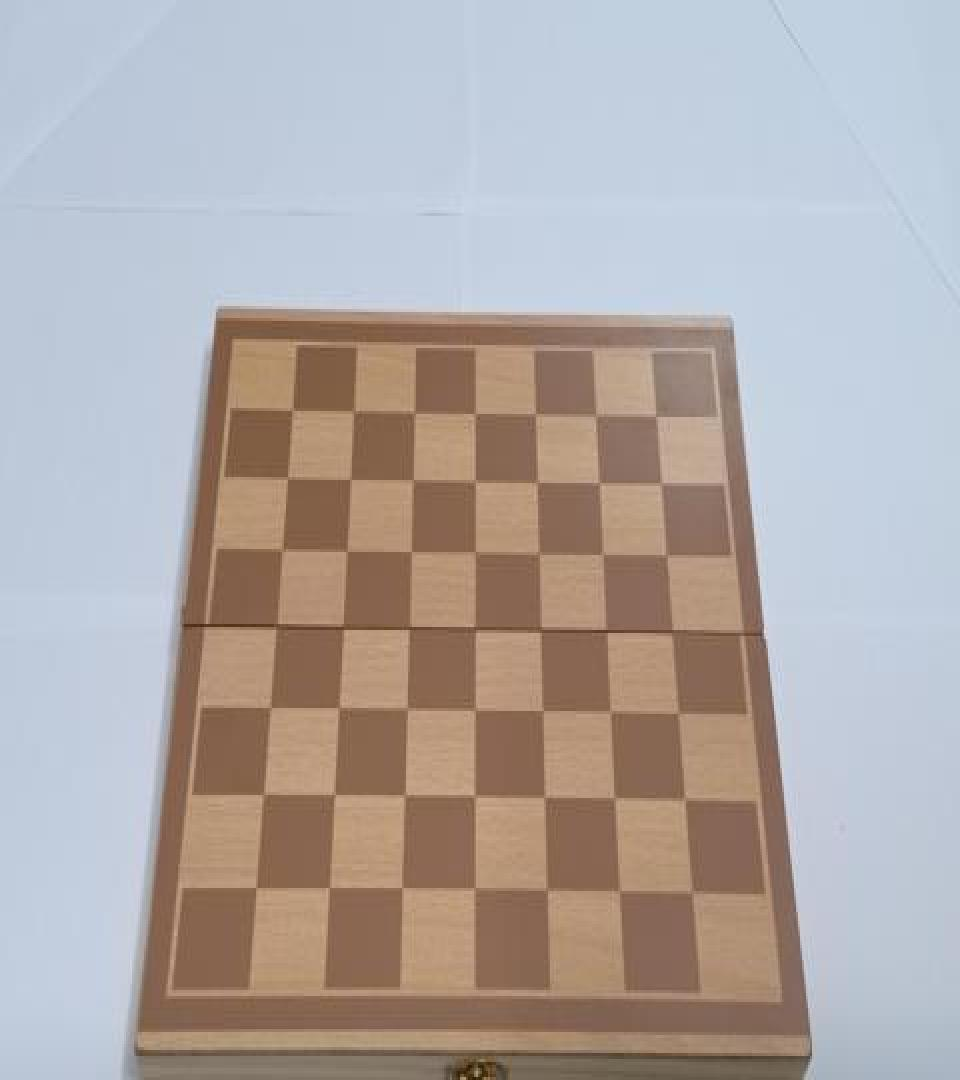xcorner: (585, 400, 605, 431), (463, 466, 483, 497), (400, 466, 420, 497), (401, 397, 421, 428), (687, 884, 707, 914), (679, 789, 699, 819), (671, 702, 691, 732), (664, 620, 684, 650), (658, 543, 678, 573), (651, 471, 671, 501), (646, 402, 666, 432), (613, 882, 633, 912), (608, 789, 628, 819), (603, 700, 623, 730), (598, 620, 618, 650), (589, 470, 609, 500), (537, 788, 557, 818), (534, 700, 554, 730), (531, 618, 551, 648), (526, 468, 546, 498), (524, 399, 544, 429), (466, 786, 486, 816), (465, 699, 485, 729), (464, 540, 484, 570), (463, 399, 483, 429), (393, 879, 413, 909), (394, 786, 414, 816), (399, 538, 419, 568), (331, 615, 351, 645), (334, 537, 354, 567), (337, 465, 357, 495), (340, 396, 360, 426), (245, 876, 265, 906), (252, 783, 272, 813), (258, 696, 278, 726), (264, 614, 284, 644), (269, 537, 289, 567), (274, 464, 294, 494), (279, 396, 299, 426), (593, 542, 613, 571), (540, 881, 560, 910), (528, 542, 548, 571), (466, 881, 486, 910), (464, 617, 484, 646), (396, 698, 416, 727), (397, 617, 417, 646), (319, 878, 339, 907), (323, 785, 343, 814), (327, 698, 347, 727)
